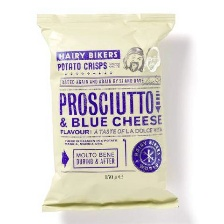snack: (28, 5, 186, 218)
